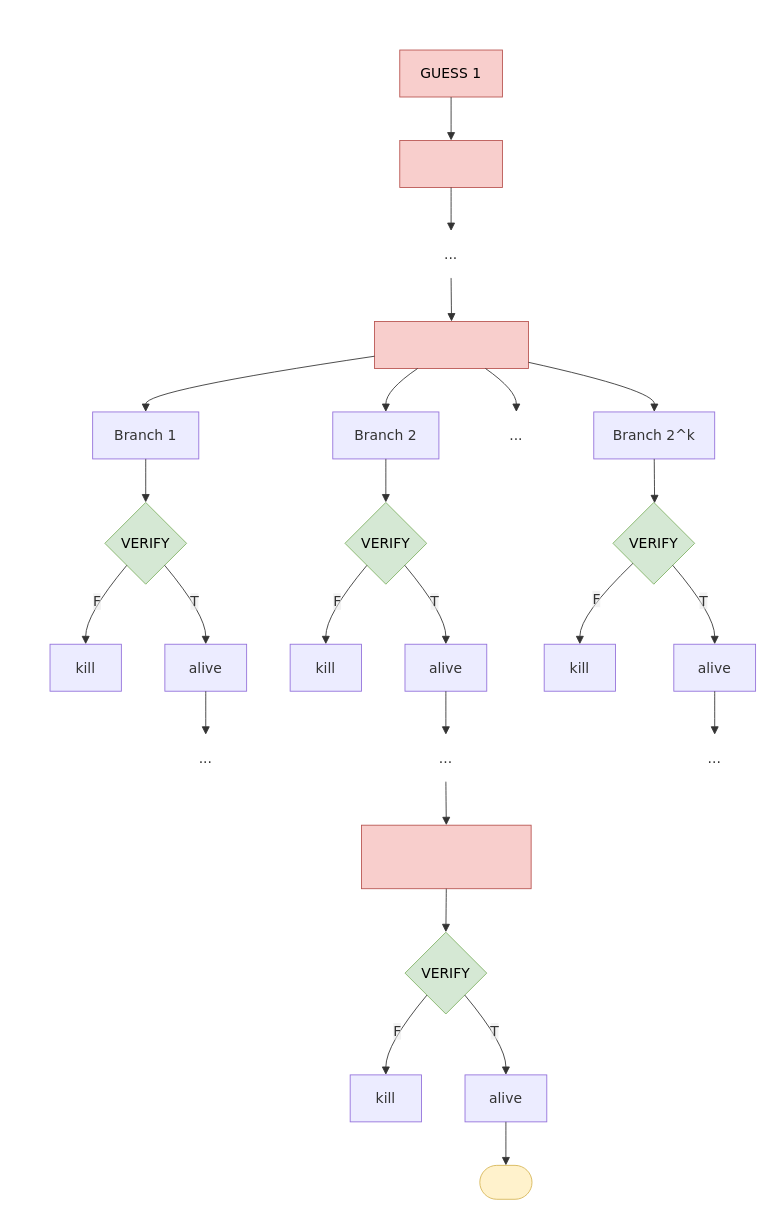
Some shapes in this 771 by 1215 pixel diagram are drawn without their labels. The shapes that lost their labels are listed below. From the top down, each one's box as (x1, y1, x2, y2) in pixels, then its label:
(399, 140, 502, 187): GUESS 2
(374, 321, 529, 368): GUESS k (k ≪ n)
(361, 824, 531, 889): ... (after all GUESSes)
(479, 1164, 532, 1199): STOP
